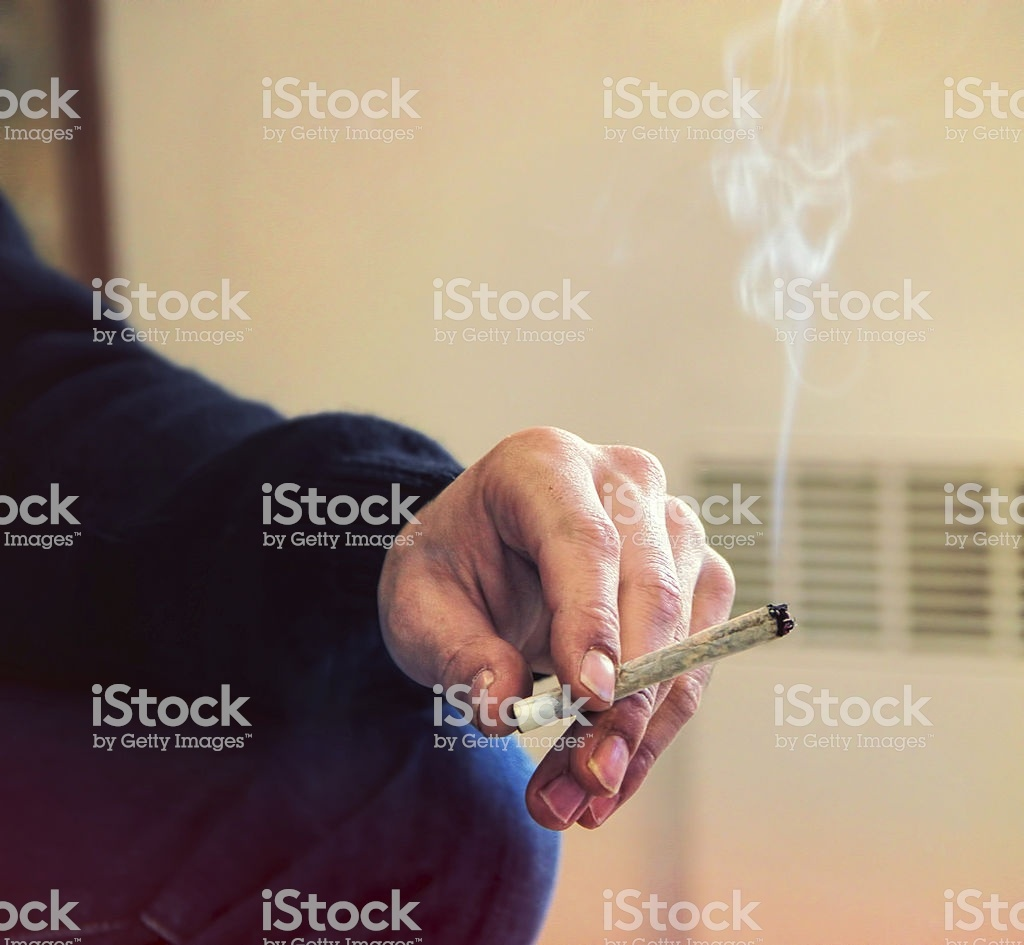sigaretta: (521, 604, 792, 730)
